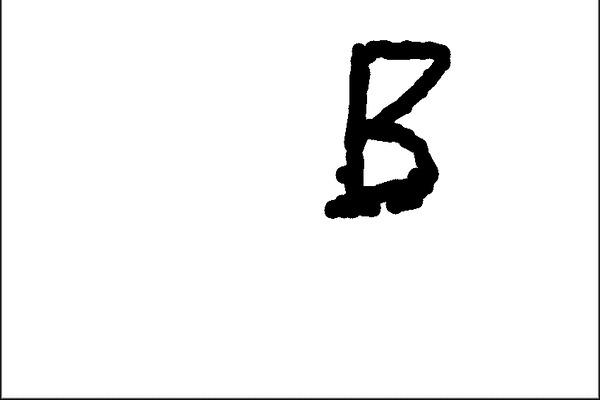B: (314, 31, 455, 223)
